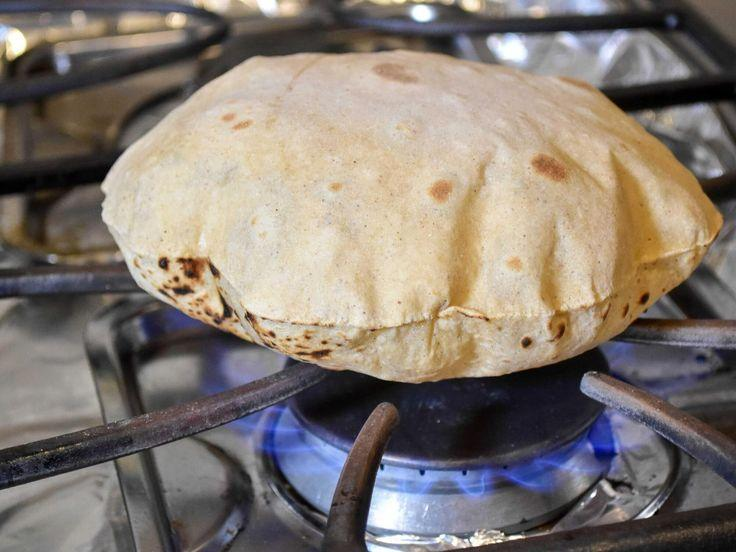roti phulka: (98, 48, 725, 384)
